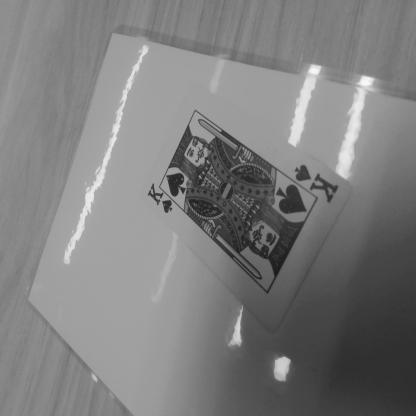KS: (288, 166, 347, 210), (137, 176, 180, 226)
